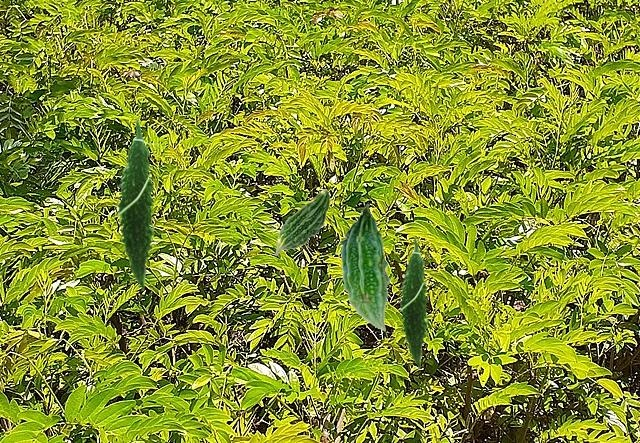ampalaya: (114, 119, 160, 291), (339, 203, 390, 331), (397, 237, 432, 369), (274, 189, 330, 256)
